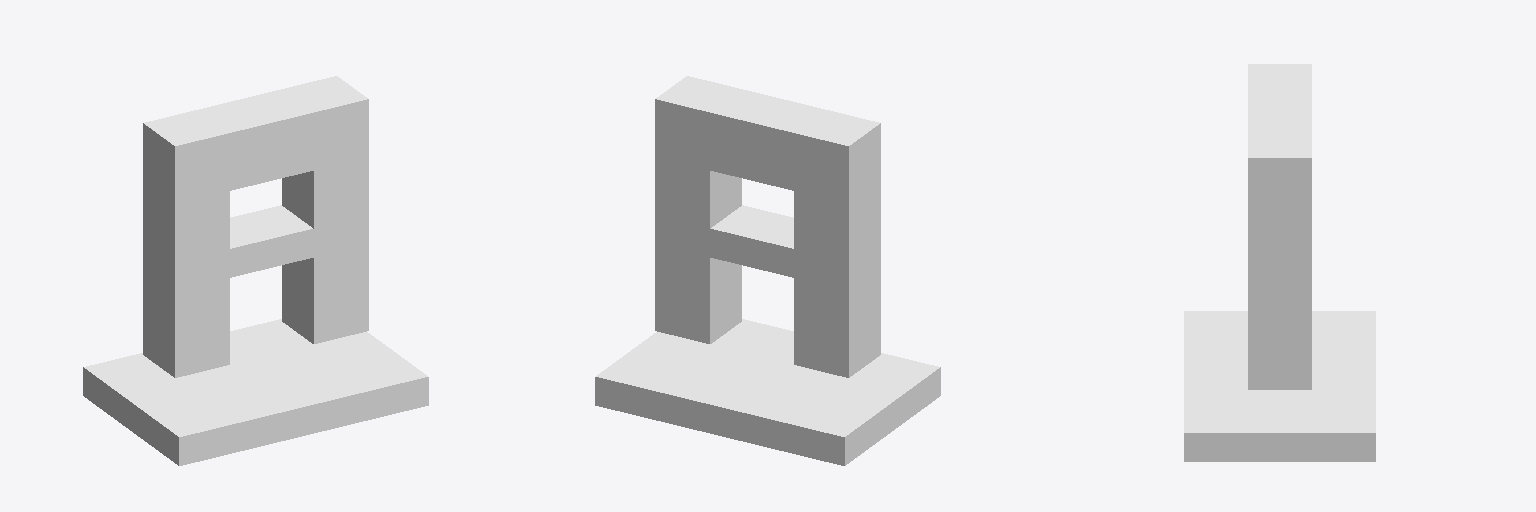
File: toy-store-6-toy5.obj
The picture shows the model from 3 angles: view 1: azimuth 30°, elevation 25°; view 2: azimuth 150°, elevation 25°; view 3: azimuth 270°, elevation 25°; orthographic projection.
Parts seen in each view (by area): view 1: toy5; view 2: toy5; view 3: toy5.
Part boxes in pixels (x1,y1,x2,y2): toy5: (83,76,428,465); toy5: (595,76,940,465); toy5: (1184,64,1375,461).
Size of the model in its own units: 0.9 by 1 by 0.6.